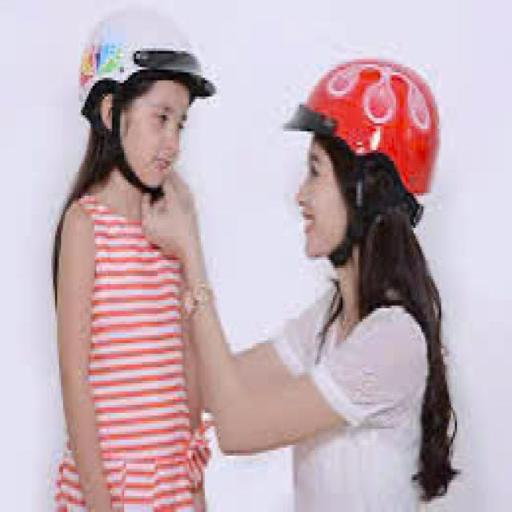with helmet: (279, 52, 443, 200), (76, 6, 220, 129)
